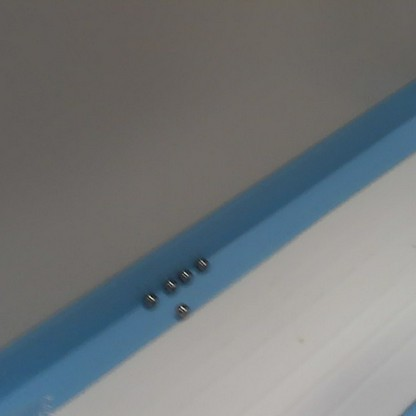ironball: (172, 298, 194, 322), (139, 289, 162, 310), (159, 276, 176, 295), (176, 264, 192, 283), (195, 255, 210, 273)
